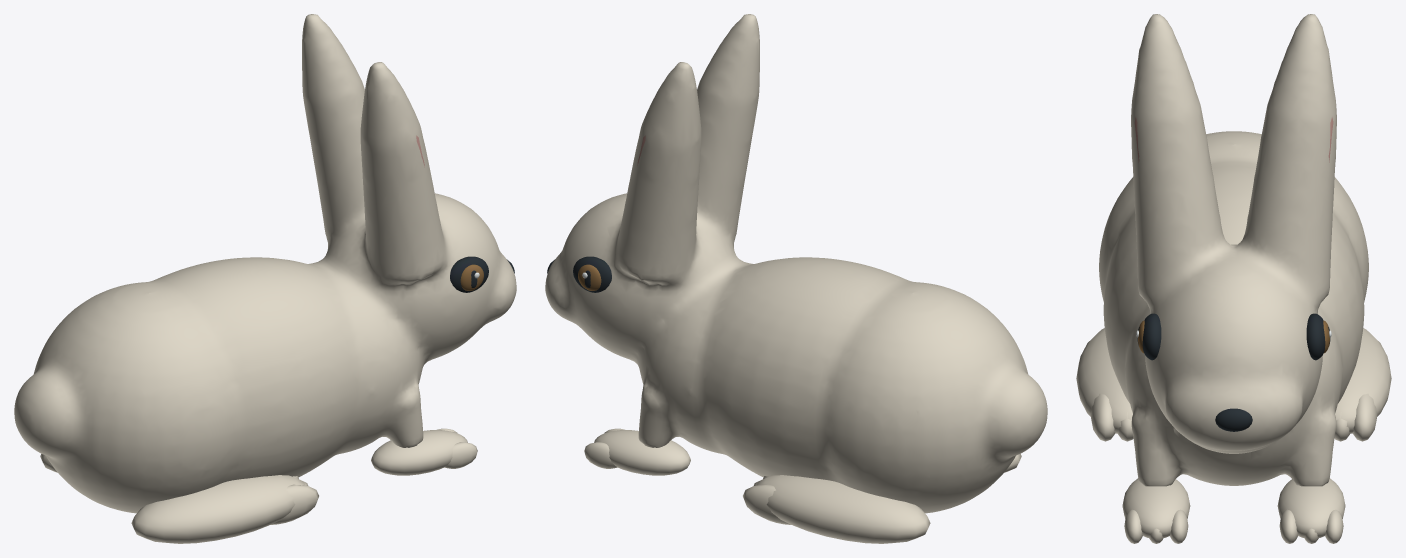
Rendered from nature-rabbit.glb.
3 renders of one model, left to right at view 1: azimuth 30°, elevation 25°; view 2: azimuth 150°, elevation 25°; view 3: azimuth 270°, elevation 25°, orthographic. The views are drawn at different scales.
Parts seen in each view (by area): view 1: Continuous anatomical skin, Rounded paw, Rounded paw.001, Toe, Dark eye socket, Toe.003; view 2: Continuous anatomical skin, Rounded paw.002, Rounded paw.003, Toe.008, Dark eye socket.001, Toe.011; view 3: Continuous anatomical skin, Rounded paw.002, Rounded paw, Rounded paw.001, Rounded paw.003, Toe, Toe.008, Dark eye socket, Dark eye socket.001, Pet nose, Toe.005, Toe.009 (+2 smaller).
Boxes of the visible parts, bbox=[...] form: Continuous anatomical skin: bbox=[14, 14, 516, 513]; Rounded paw: bbox=[131, 475, 305, 543]; Rounded paw.001: bbox=[371, 430, 467, 475]; Toe: bbox=[270, 484, 318, 524]; Dark eye socket: bbox=[450, 256, 488, 292]; Toe.003: bbox=[444, 442, 477, 468]; Continuous anatomical skin: bbox=[545, 14, 1047, 513]; Rounded paw.002: bbox=[756, 475, 930, 543]; Rounded paw.003: bbox=[594, 430, 690, 475]; Toe.008: bbox=[743, 484, 791, 524]; Dark eye socket.001: bbox=[573, 256, 611, 292]; Toe.011: bbox=[584, 442, 617, 468]; Continuous anatomical skin: bbox=[1099, 14, 1368, 486]; Rounded paw.002: bbox=[1335, 328, 1391, 433]; Rounded paw: bbox=[1076, 328, 1132, 433]; Rounded paw.001: bbox=[1122, 478, 1190, 537]; Rounded paw.003: bbox=[1277, 478, 1345, 537]; Toe: bbox=[1090, 393, 1115, 441]; Toe.008: bbox=[1352, 393, 1377, 441]; Dark eye socket: bbox=[1142, 313, 1161, 360]; Dark eye socket.001: bbox=[1306, 313, 1325, 360]; Pet nose: bbox=[1215, 408, 1252, 431]; Toe.005: bbox=[1170, 509, 1188, 543]; Toe.009: bbox=[1279, 509, 1297, 543].
Size of the model in its own units: 0.4157 by 0.34 by 0.198.
5 materials, 5 textured.
